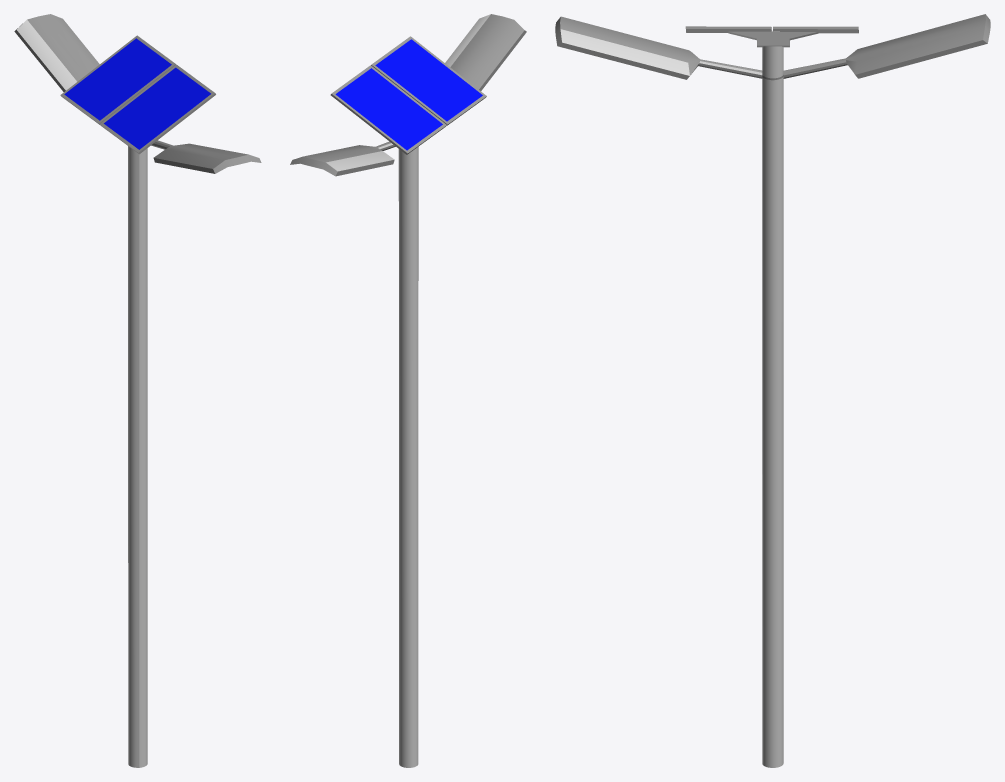
File: streetlight dbl.fbx
3 renders of one model, left to right at view 1: azimuth 30°, elevation 25°; view 2: azimuth 150°, elevation 25°; view 3: azimuth 270°, elevation 25°, orthographic. The views are drawn at different scales.
Parts seen in each view (by area): view 1: Cylinder.002; view 2: Cylinder.002; view 3: Cylinder.002.
Boxes of the visible parts, x1=… form: Cylinder.002: x1=14, y1=14, x2=261, y2=767; Cylinder.002: x1=290, y1=14, x2=526, y2=767; Cylinder.002: x1=555, y1=14, x2=990, y2=767.
Bounding box in the file's own units: 89.15 × 750 × 391.
